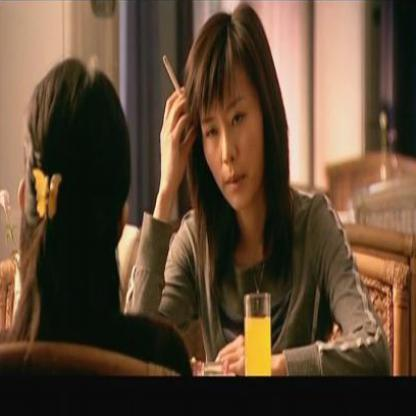cigarette: (162, 50, 180, 96)
person: (142, 12, 359, 376), (0, 48, 145, 349)
